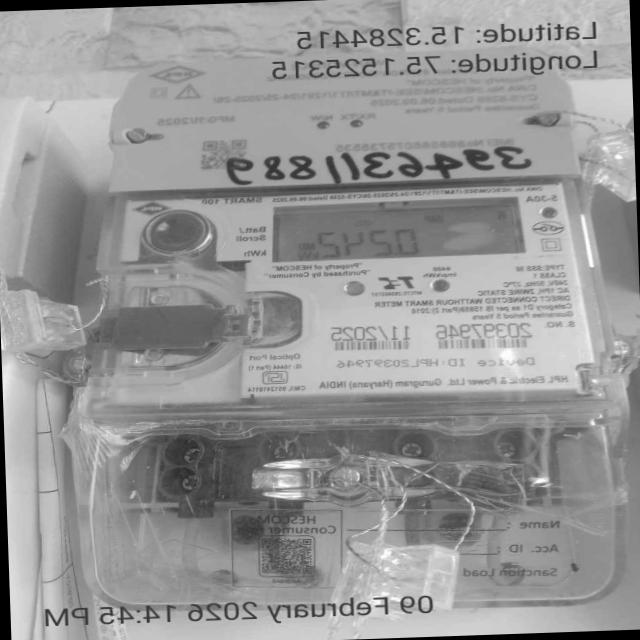meter: (70, 45, 592, 408)
